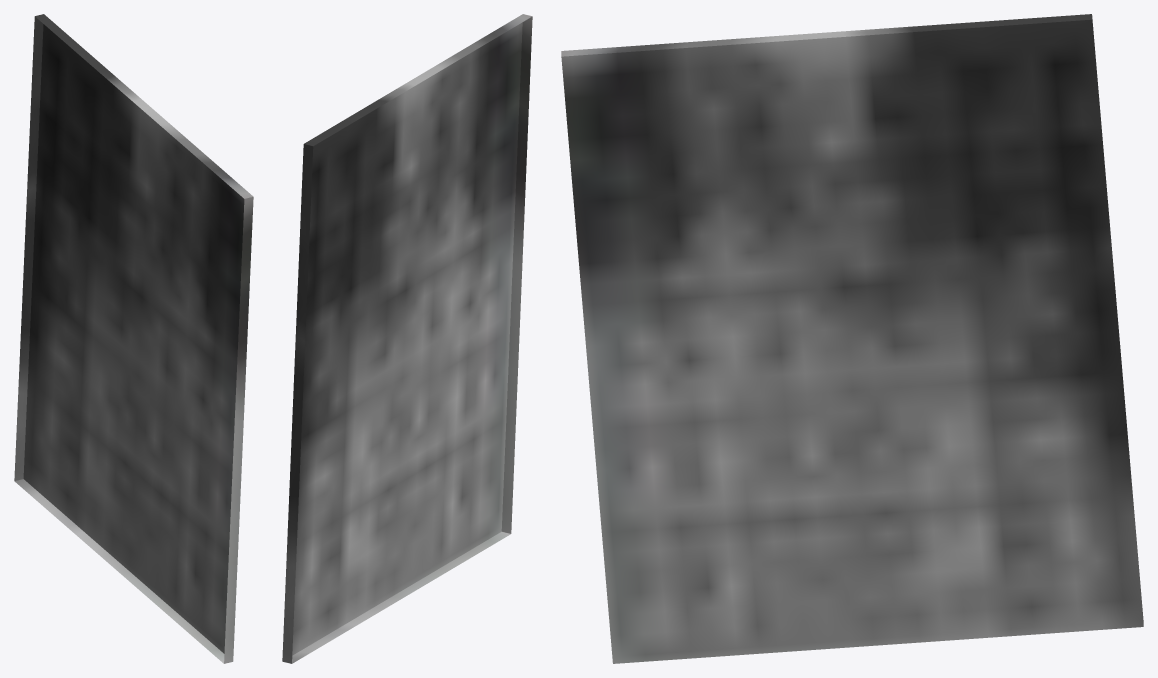
The model's file is Paper08.FBX.
The picture shows the model from 3 angles, left to right: view 1: azimuth 30°, elevation 25°; view 2: azimuth 150°, elevation 25°; view 3: azimuth 270°, elevation 25°; orthographic projection. The views are drawn at different scales.
Parts seen in each view (by area): view 1: Paper08; view 2: Paper08; view 3: Paper08.
Part boxes in pixels (x1,y1,x2,y2): Paper08: (14, 14, 253, 663); Paper08: (282, 14, 532, 663); Paper08: (561, 14, 1143, 663).
Bounding box in the file's own units: 0.4108 × 21.72 × 17.79.
